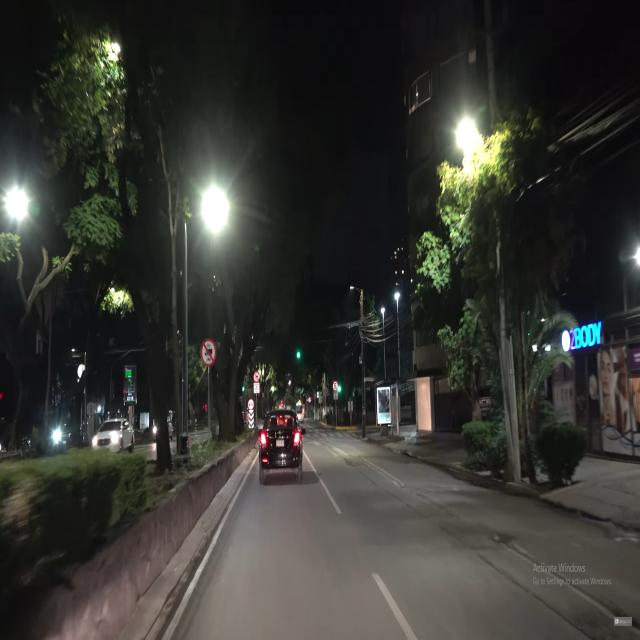headlights: (86, 423, 126, 453)
